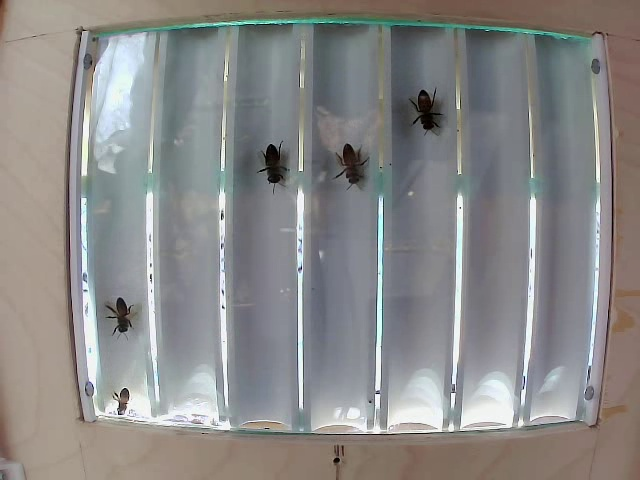bee: (257, 128, 293, 200), (97, 286, 146, 337), (404, 85, 440, 136), (332, 140, 361, 193)
